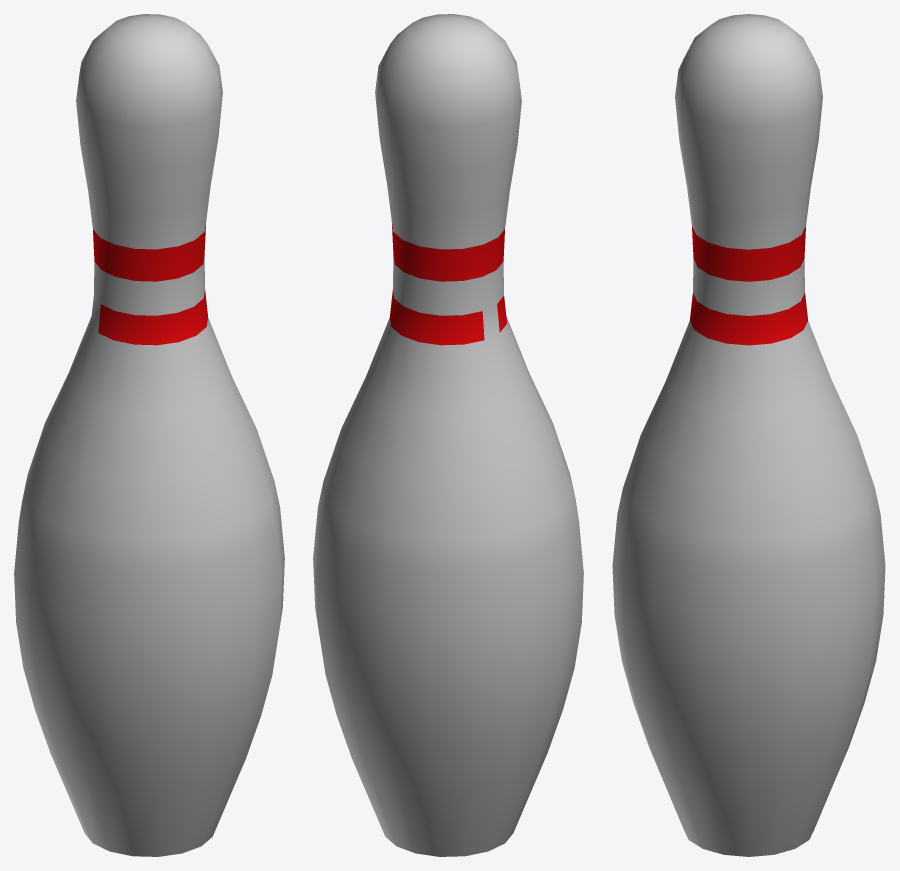
The model's file is bowlingpin.fbx.
The picture shows the model from 3 angles, left to right: view 1: azimuth 30°, elevation 25°; view 2: azimuth 150°, elevation 25°; view 3: azimuth 270°, elevation 25°; orthographic projection.
Parts seen in each view (by area): view 1: polySurface1; view 2: polySurface1; view 3: polySurface1.
Part boxes in pixels (x1,y1,x2,y2): polySurface1: [14, 14, 284, 856]; polySurface1: [313, 14, 583, 856]; polySurface1: [612, 14, 885, 856].
Size of the model in its own units: 45.14 by 147 by 45.14.
